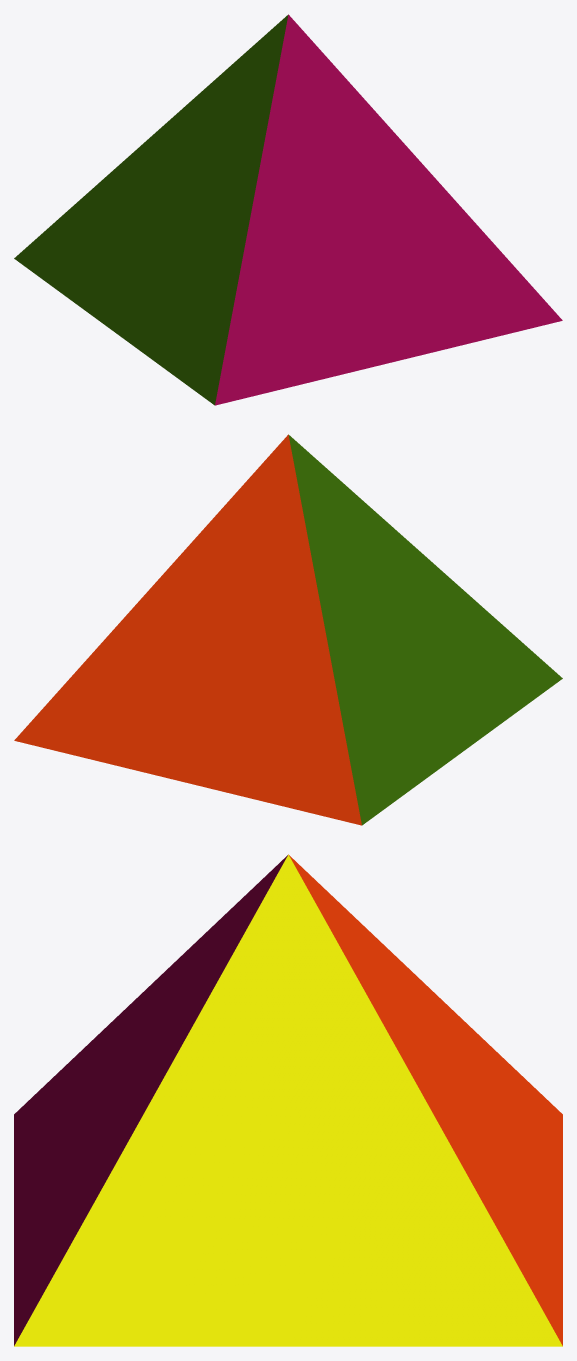
3 renders of one model, top to bottom at view 1: azimuth 30°, elevation 25°; view 2: azimuth 150°, elevation 25°; view 3: azimuth 270°, elevation 25°, orthographic. The views are drawn at different scales.
Visible parts, largest first — view 1: Model; view 2: Model; view 3: Model.
Part boxes in pixels (left/top/right/bottom): Model: left=14, top=14, right=562, bottom=405; Model: left=14, top=434, right=562, bottom=825; Model: left=14, top=854, right=562, bottom=1346.
Size of the model in its own units: 3.4 by 2.57 by 3.4.
